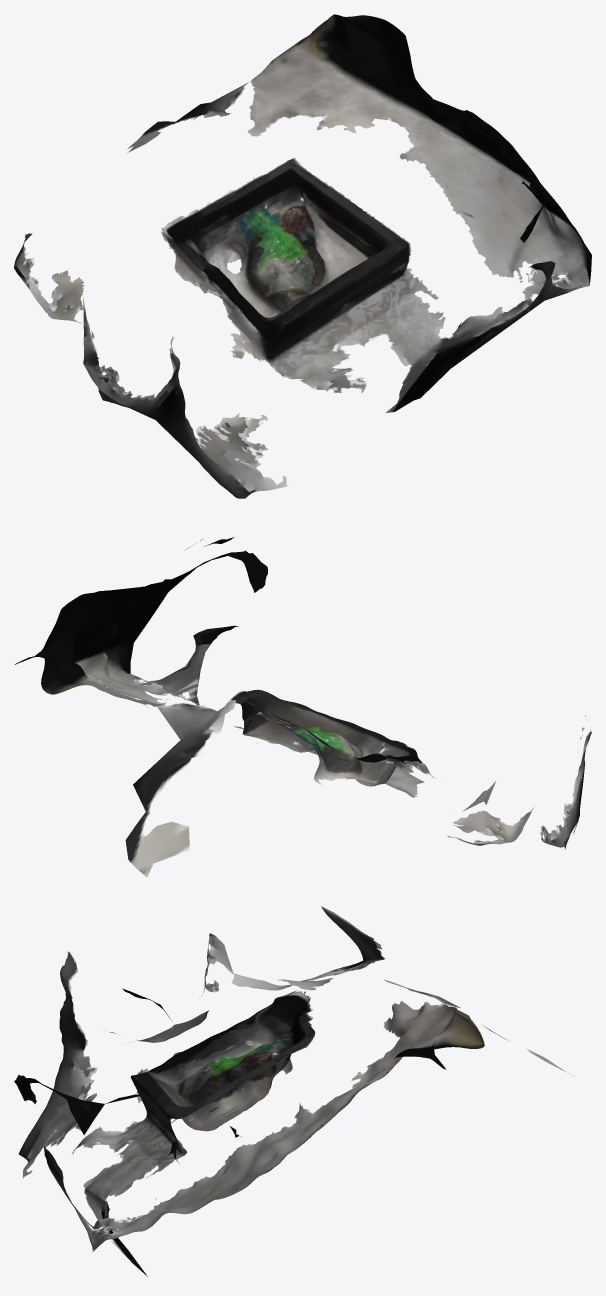
The picture shows the model from 3 angles, top to bottom: view 1: azimuth 30°, elevation 25°; view 2: azimuth 150°, elevation 25°; view 3: azimuth 270°, elevation 25°; orthographic projection. The views are drawn at different scales.
Size of the model in its own units: 0.886 by 0.5116 by 0.8586.
1 material, 1 textured.
